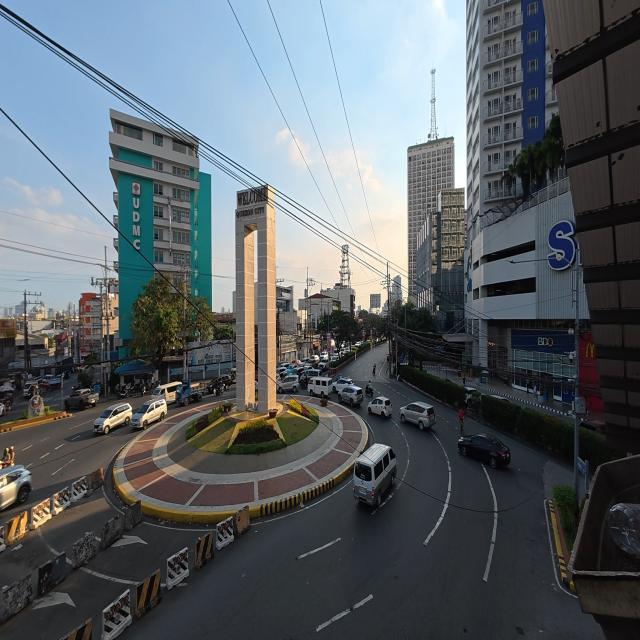car: (458, 434, 510, 468), (0, 466, 31, 509), (94, 403, 132, 434), (131, 399, 167, 429), (400, 402, 435, 430), (338, 385, 363, 406), (368, 397, 392, 417), (206, 375, 231, 394), (278, 375, 299, 393), (580, 420, 605, 434), (331, 378, 353, 393), (23, 381, 39, 398), (464, 387, 480, 402), (490, 394, 511, 403), (318, 360, 330, 373), (306, 369, 321, 379), (276, 367, 286, 377), (294, 366, 304, 376), (309, 355, 319, 364), (330, 354, 339, 363), (292, 359, 301, 367), (320, 351, 328, 359), (304, 363, 313, 370), (279, 362, 289, 368), (255, 380, 258, 392), (355, 341, 361, 347), (386, 354, 389, 361)
motorcycle: (117, 385, 129, 398), (3, 399, 11, 413), (299, 377, 308, 389), (215, 384, 224, 396), (365, 384, 373, 396)
trucks: (64, 389, 99, 411), (176, 381, 206, 405)
vans: (354, 444, 396, 507), (152, 382, 182, 404), (308, 376, 331, 397)
